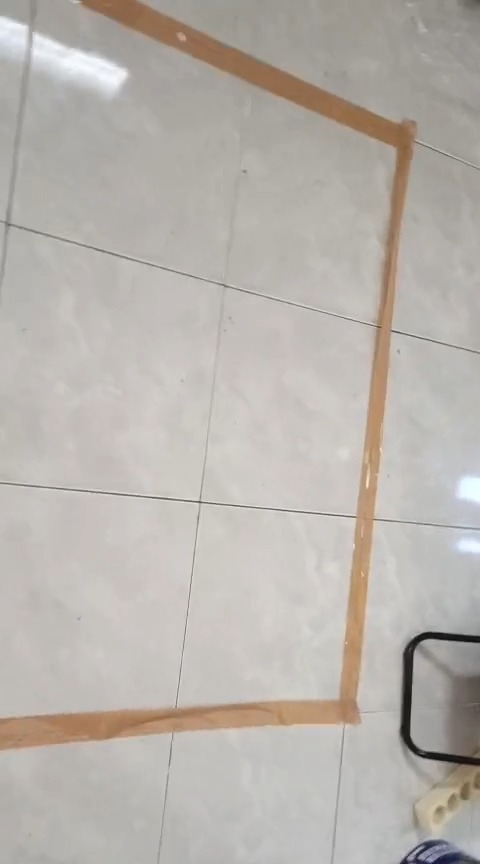floor marking: (0, 0, 415, 750)
